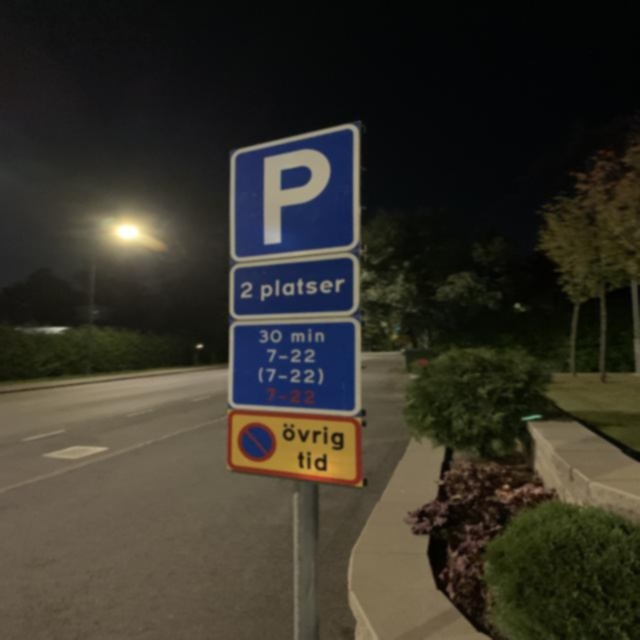P-skylt: (228, 119, 364, 264)
